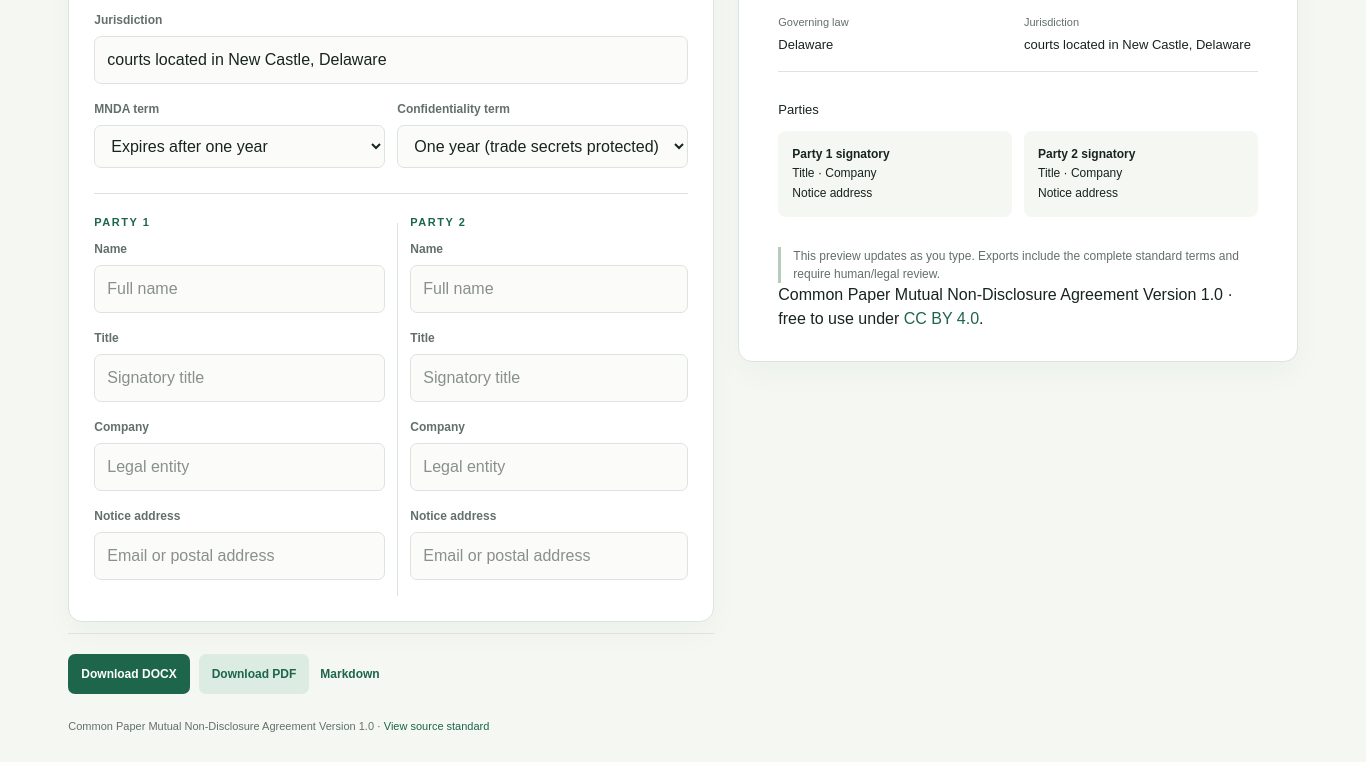
Test: MutualNdaCreator › shows a validation summary when an export is attempted with blank party details
(page scrolled)
Click the button "Markdown" at (355, 674), box [318, 654, 393, 694]
(page scrolled)
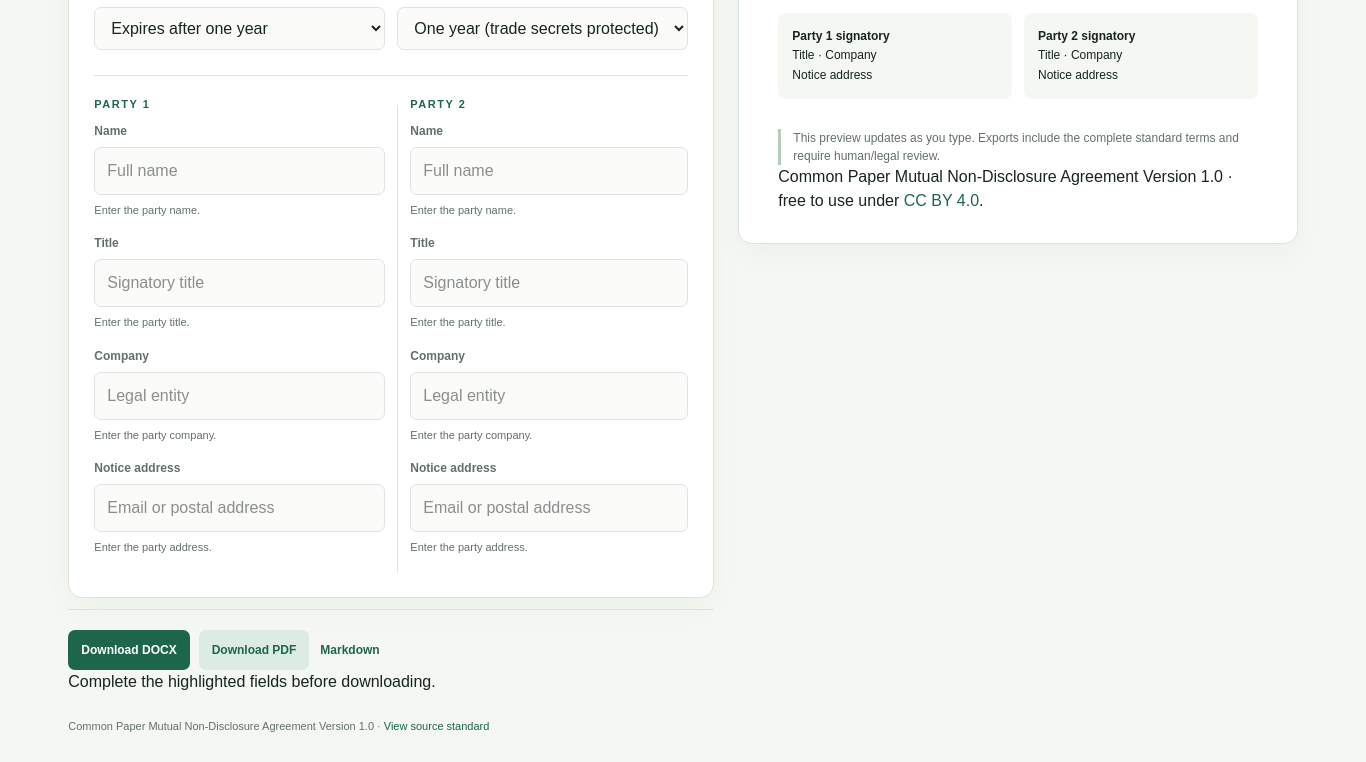
Expected: the message shows "Complete the highlighted fields", [68, 673, 436, 690]
